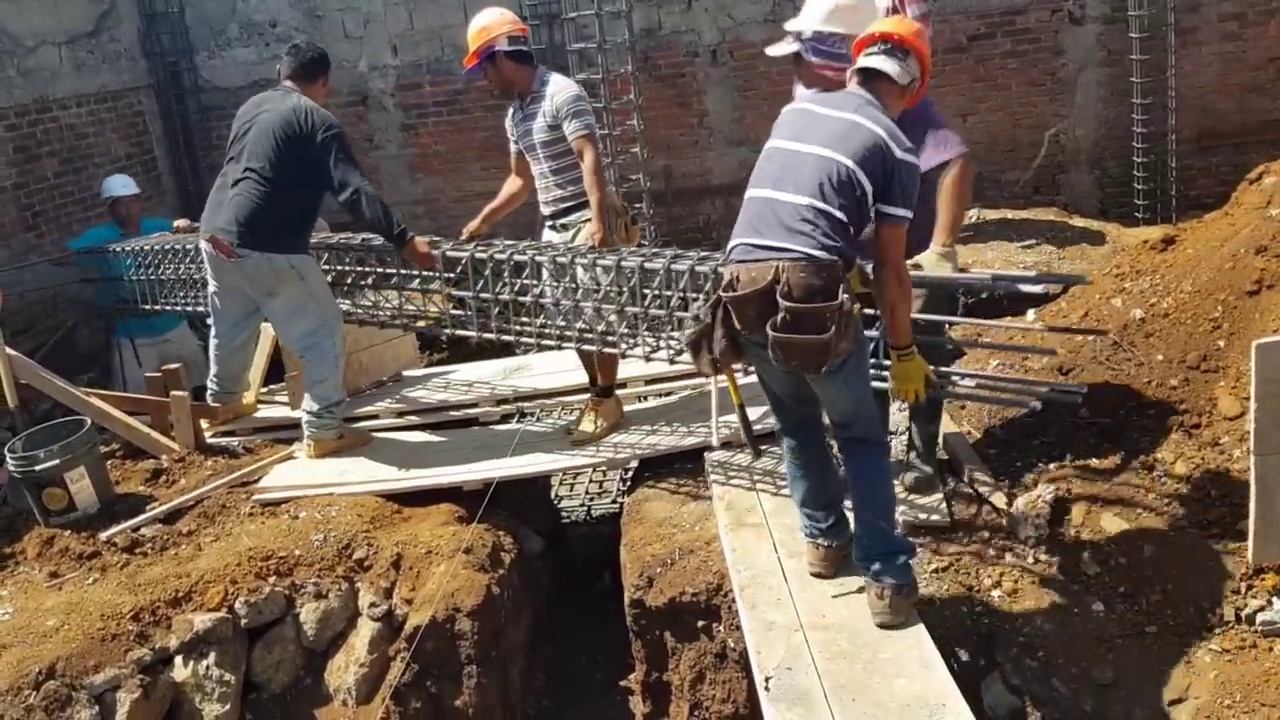helmet: (848, 11, 933, 100), (455, 8, 533, 74), (782, 2, 869, 40), (93, 168, 139, 203)
helmet-off: (275, 46, 333, 105)
helmet-on: (846, 11, 936, 119), (768, 6, 873, 92), (460, 10, 542, 107), (90, 173, 140, 228)
person: (689, 11, 934, 641), (189, 31, 444, 490), (776, 0, 969, 490), (456, 27, 626, 449), (63, 178, 199, 390)
